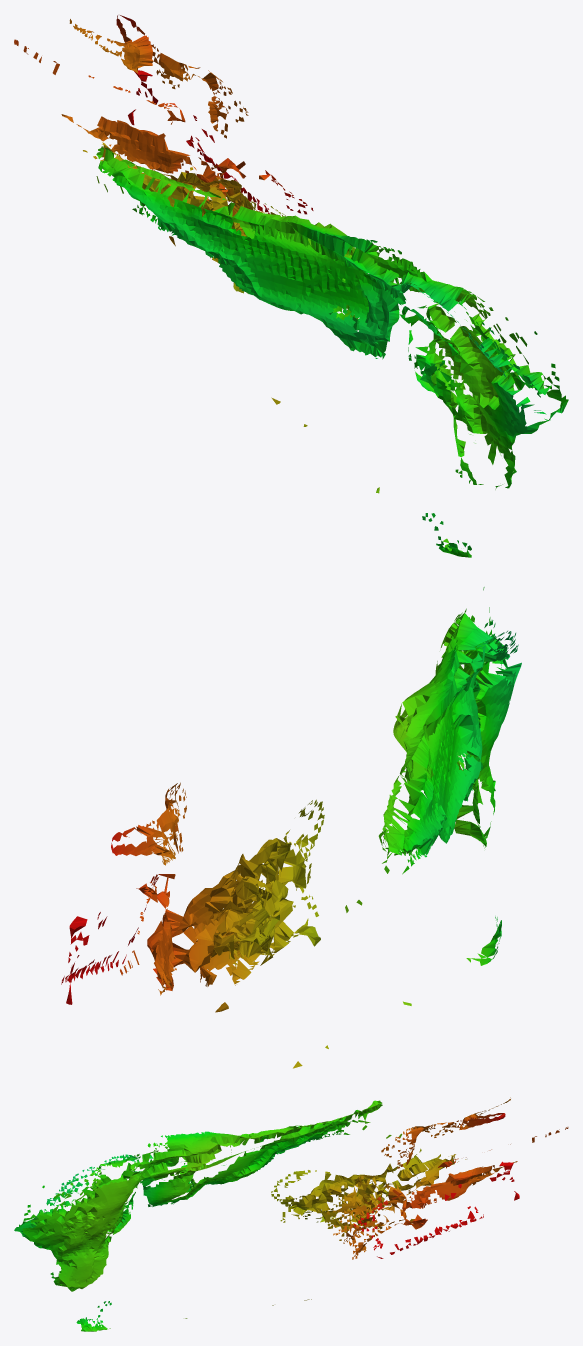
The picture shows the model from 3 angles, top to bottom: view 1: azimuth 30°, elevation 25°; view 2: azimuth 150°, elevation 25°; view 3: azimuth 270°, elevation 25°; orthographic projection. The views are drawn at different scales.
Visible parts, largest first — view 1: geometry_0; view 2: geometry_0; view 3: geometry_0.
Boxes of the visible parts, x1,y1,x2,y2 form: geometry_0: [14, 15, 568, 557]; geometry_0: [61, 587, 521, 1068]; geometry_0: [14, 1097, 568, 1331].
Size of the model in its own units: 0.2786 by 0.4175 by 0.9907.
